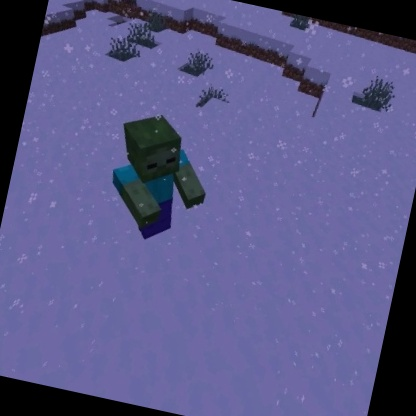zombie: (95, 102, 225, 256)
